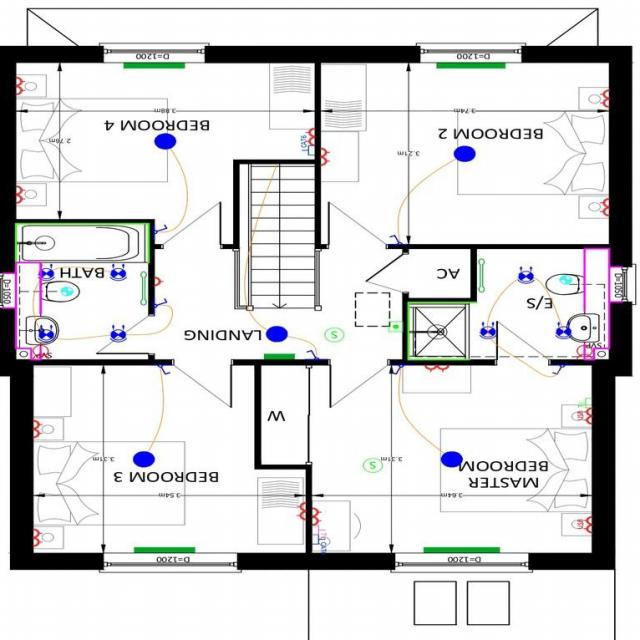Cat 6 Data Socket: (295, 144, 315, 158), (312, 533, 328, 549)
Ceiling Mounted Continuous Extract Fan With Boost Mode Activated By Light Switch: (554, 272, 576, 290), (55, 285, 79, 300)
Co-Ax TV Socket: (309, 526, 333, 534)
Double Socket: (30, 526, 47, 552), (13, 74, 30, 100), (31, 412, 45, 443), (292, 496, 305, 524), (597, 191, 608, 223), (13, 180, 26, 207), (308, 508, 327, 526), (319, 146, 331, 170), (598, 84, 608, 112), (422, 365, 449, 375), (302, 128, 316, 145)
Full Height Tiling: (12, 222, 150, 265), (404, 300, 472, 366)
Light Switch: (547, 365, 569, 383), (153, 293, 167, 315), (305, 345, 322, 363), (387, 233, 408, 247), (153, 220, 167, 240), (388, 366, 410, 378), (154, 367, 171, 378)
Low Energy Downlighter: (32, 318, 62, 342), (551, 314, 574, 344), (33, 261, 59, 285), (511, 265, 537, 288), (476, 320, 502, 342), (105, 324, 129, 347), (108, 263, 128, 285)
Low Energy Pendant Light: (444, 145, 483, 167), (147, 132, 181, 155), (125, 450, 162, 470), (262, 322, 288, 348), (439, 448, 465, 470)
Mains Wired Smoke Detector: (322, 323, 348, 346), (359, 455, 385, 477)
Programmable Room Thermostat: (386, 318, 404, 336)
Radiator: (116, 60, 190, 74), (433, 61, 507, 74), (124, 545, 206, 556), (419, 546, 502, 556), (259, 349, 299, 362)
Shaver Socket: (31, 342, 58, 362), (572, 341, 596, 362)
Single Socket: (153, 272, 167, 291)
Telephone Socket: (577, 396, 591, 410)
USB Double Socket: (574, 408, 592, 428), (576, 516, 592, 536)
